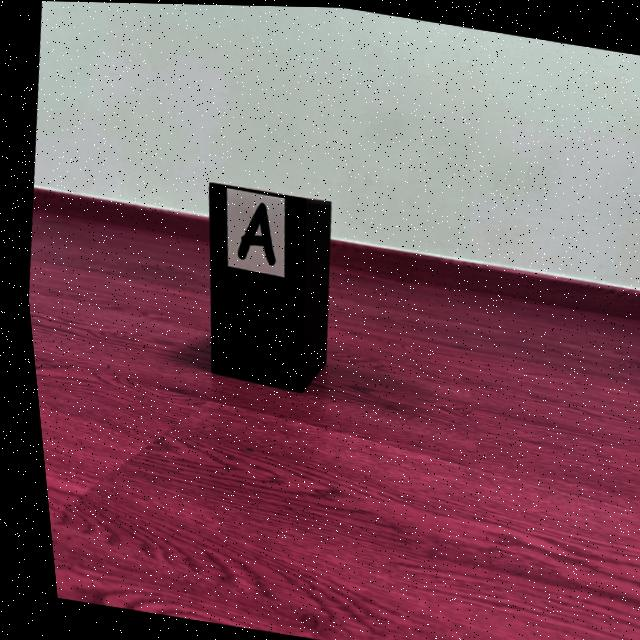A: (233, 202, 270, 264)
